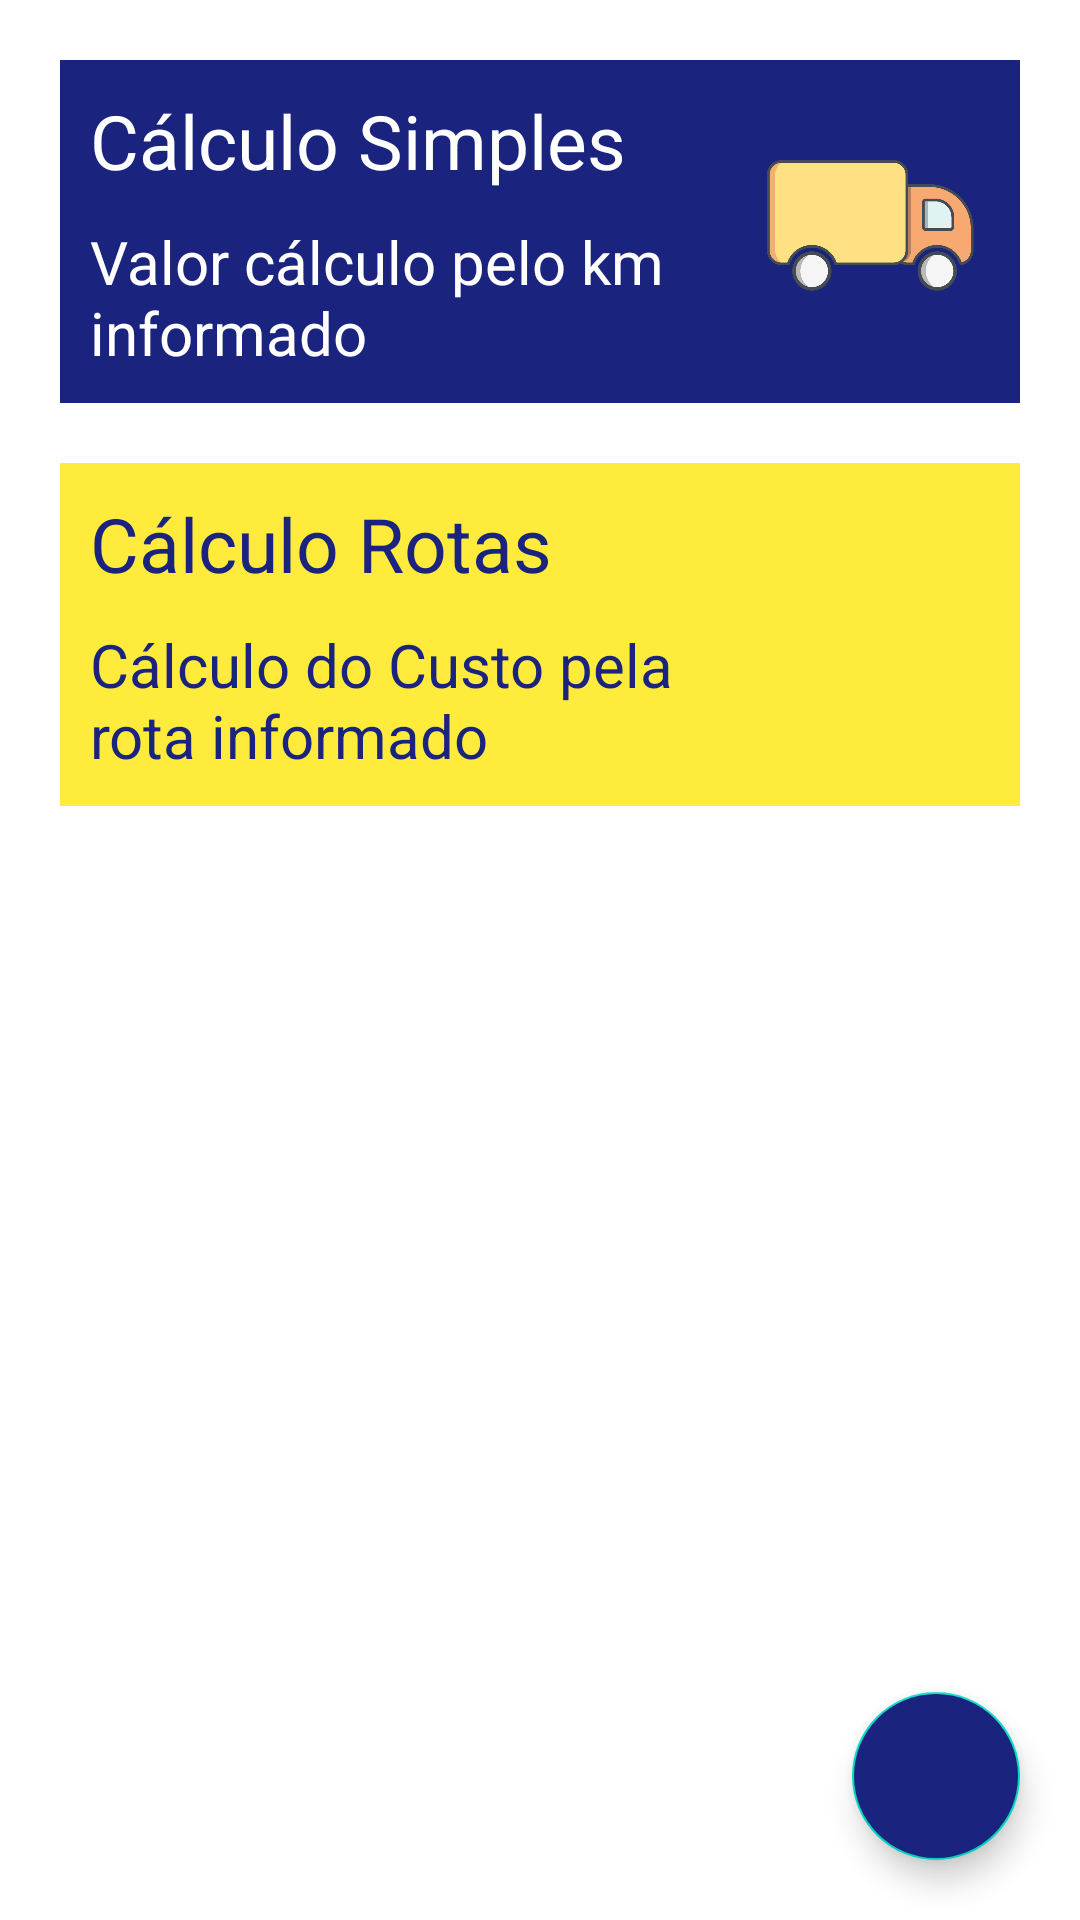

Screen size 1080px×1920px. Icon name, then its center in pixels as (x=x, y=y):
caminhao: (x=870, y=225)
